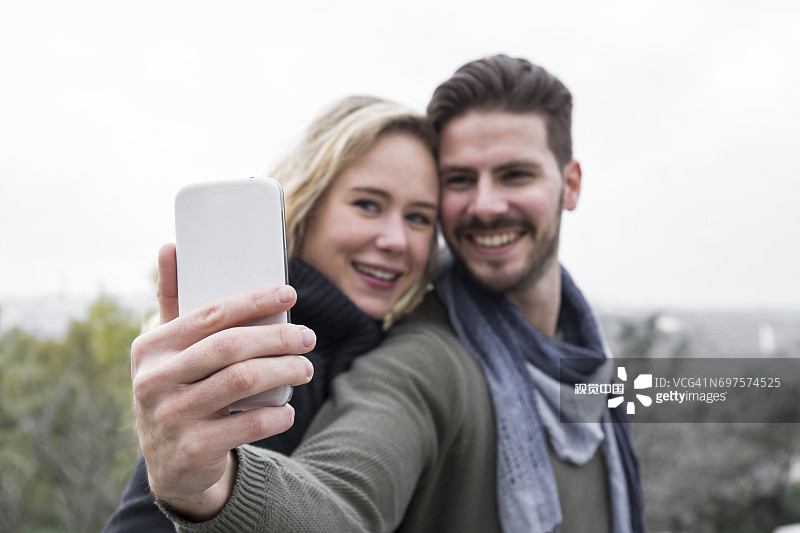taking photos: (109, 161, 326, 522)
